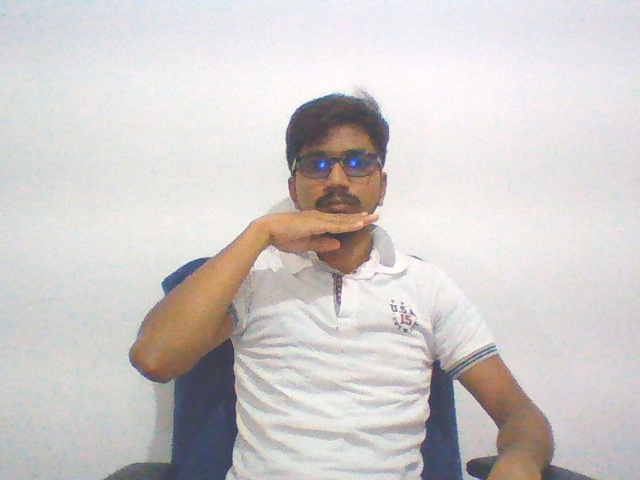elephant: (241, 203, 387, 262)
